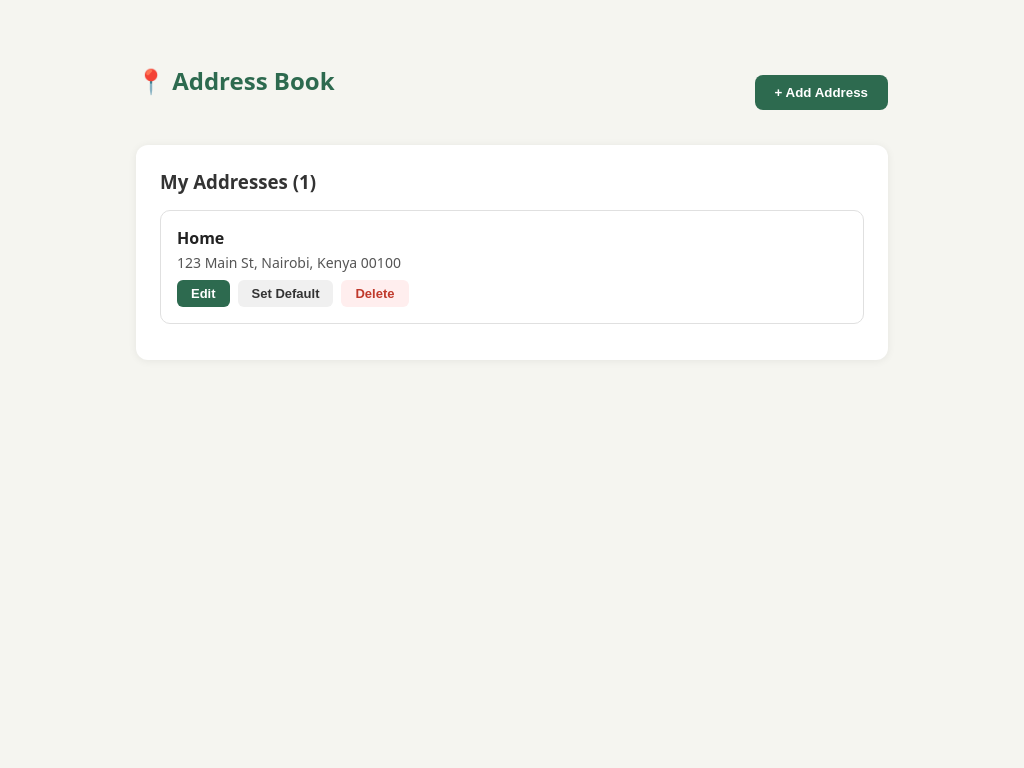
it: AddressBook delete confirmation (#430) › dismisses dialog on Escape key
The width and height of the screenshot is (1024, 768).
Click the button "Delete" at coordinates (375, 294), box [342,280,408,307]
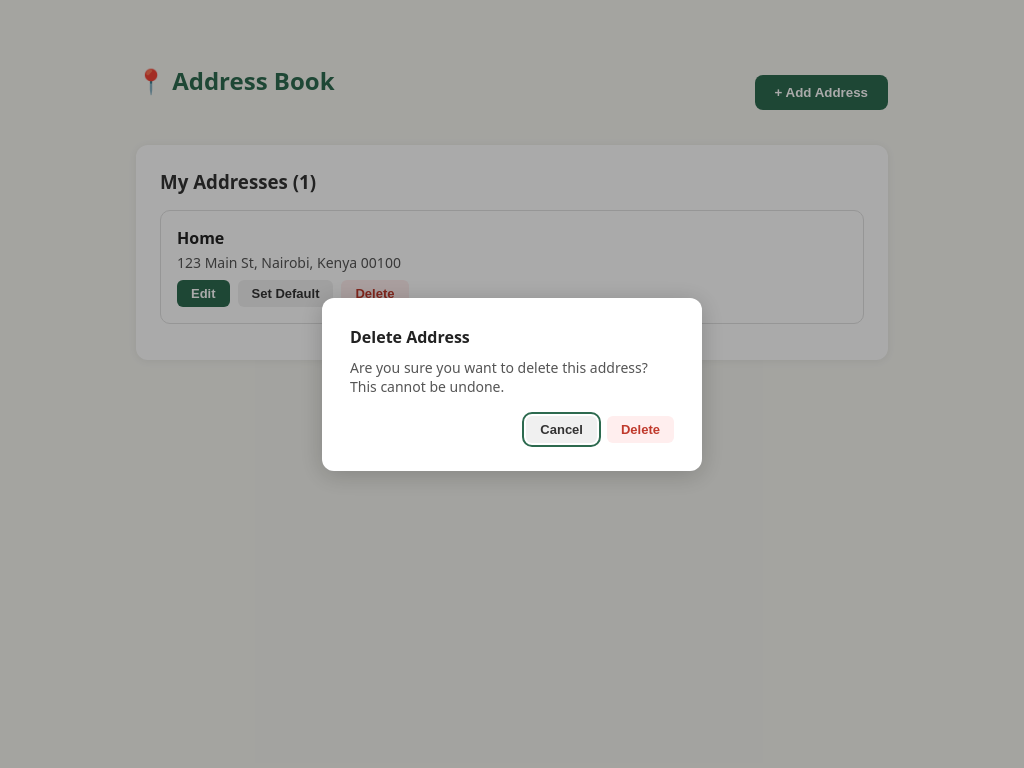
Expected: the dialog is shown
Press Escape
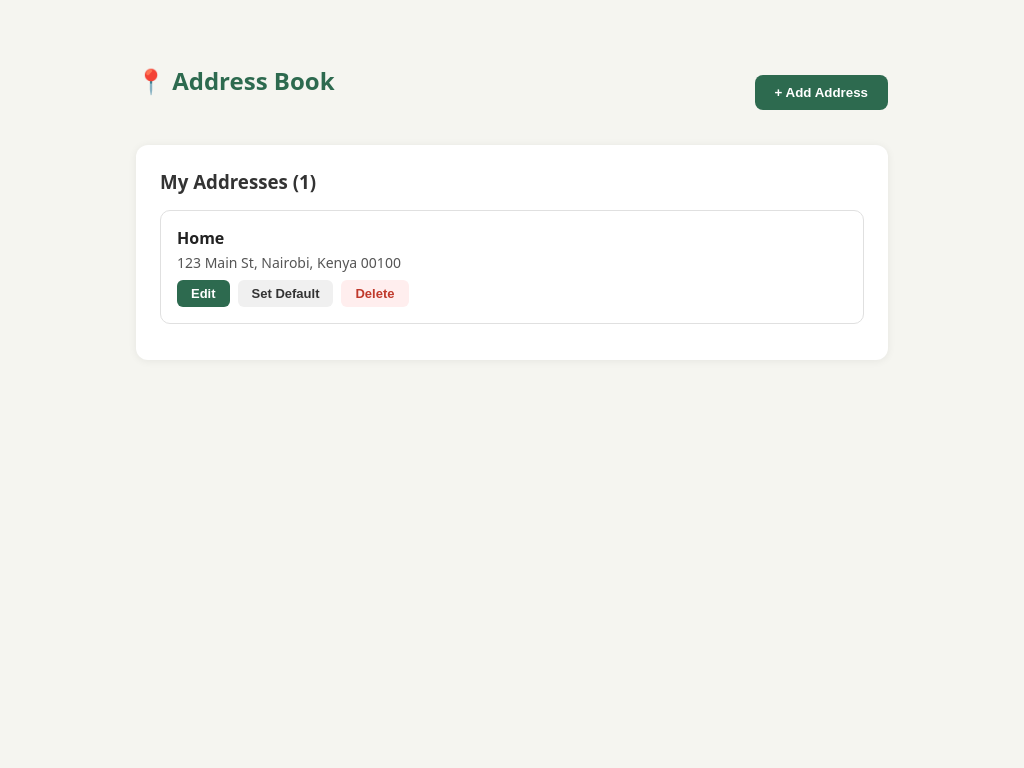
Expected: the dialog is gone
